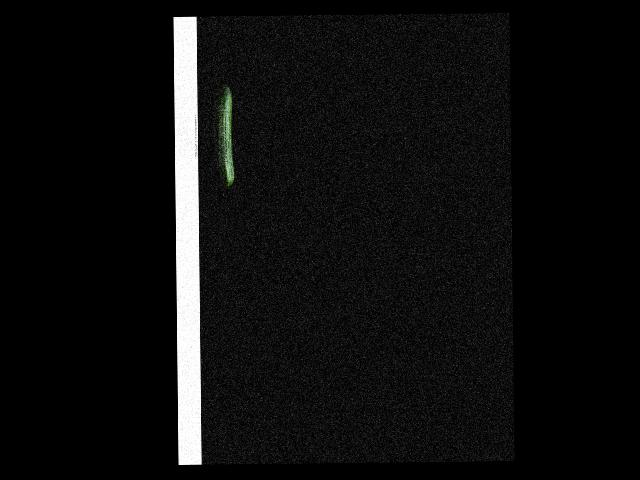cucumber: (217, 84, 233, 187)
